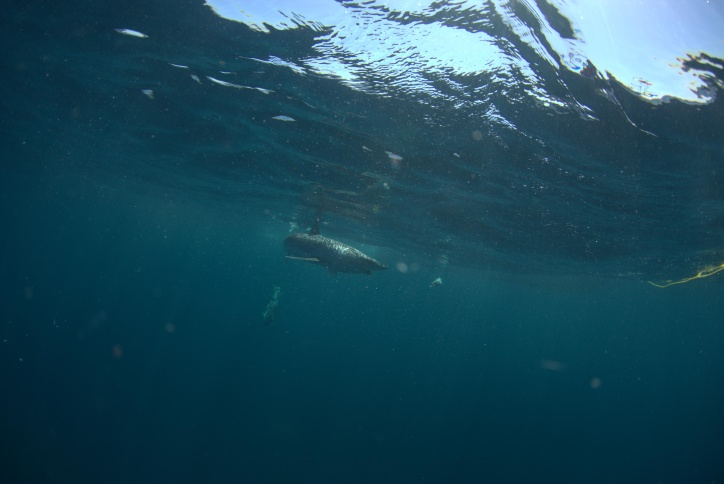Mako: (257, 213, 398, 290)
